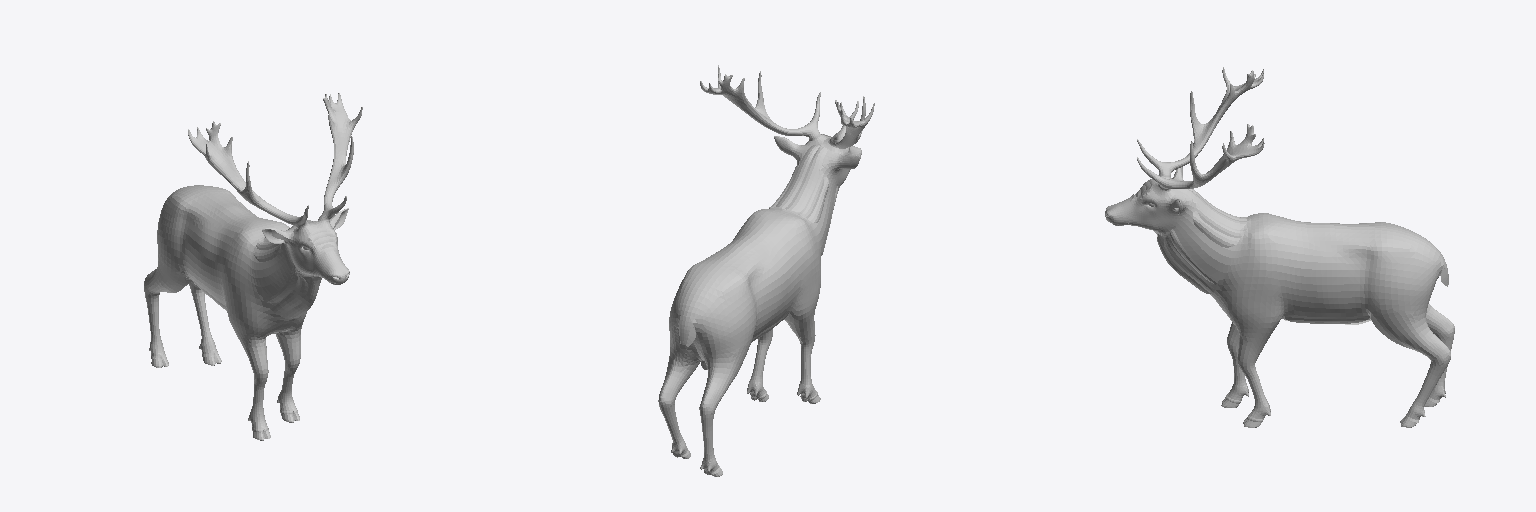
The model's file is frame_0002_uv.obj.
The picture shows the model from 3 angles: view 1: azimuth 30°, elevation 25°; view 2: azimuth 150°, elevation 25°; view 3: azimuth 270°, elevation 25°; orthographic projection.
Visible parts, largest first — view 1: pMesh1; view 2: pMesh1; view 3: pMesh1.
Part boxes in pixels (bbox=[...]): pMesh1: bbox=[144, 93, 362, 440]; pMesh1: bbox=[658, 65, 874, 476]; pMesh1: bbox=[1105, 67, 1454, 427].
Size of the model in its own units: 1.05 by 2.03 by 2.03.